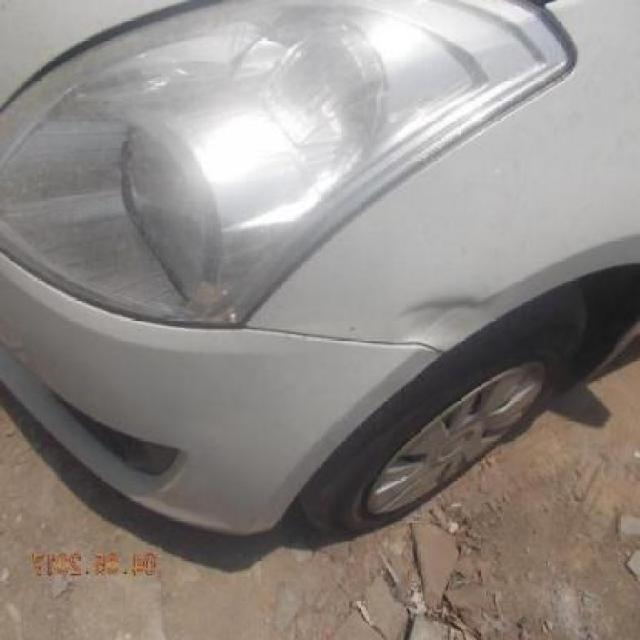damage: (396, 291, 488, 350)
